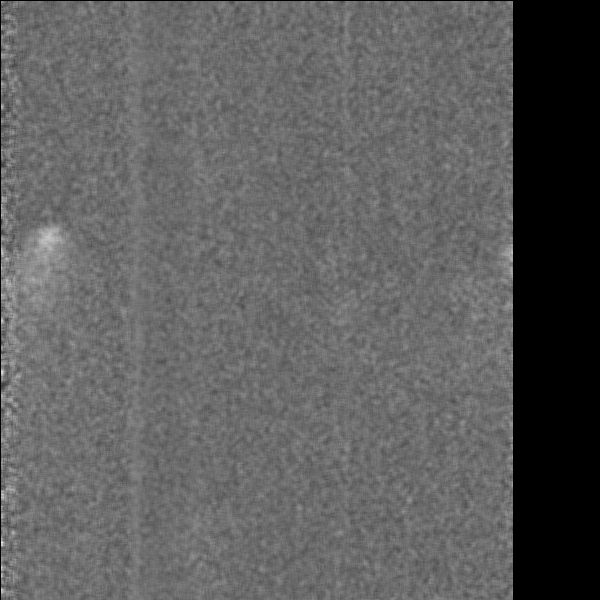spark: (25, 223, 71, 312)
